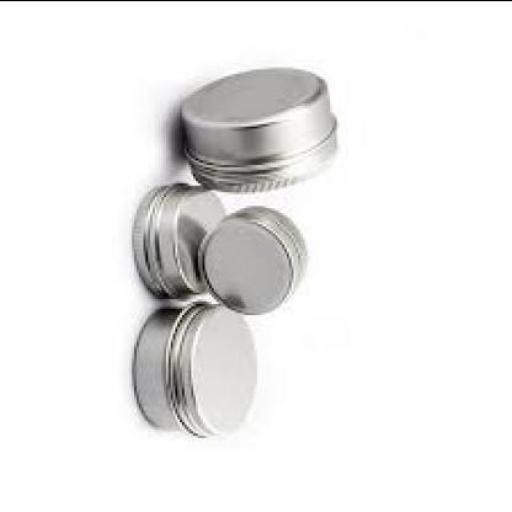metal: (184, 66, 342, 197), (132, 303, 262, 439), (198, 207, 307, 316), (134, 185, 228, 300)
